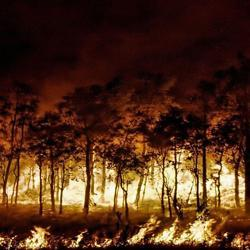fire: (152, 172, 232, 198), (99, 179, 133, 201), (12, 169, 44, 191), (188, 222, 211, 240), (67, 182, 83, 204)
